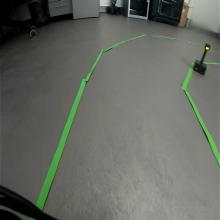green: (204, 42, 211, 52)
